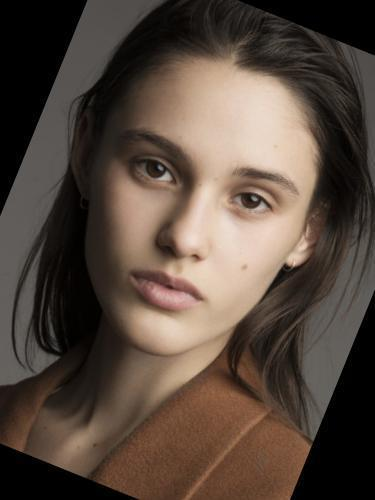Sober: (96, 67, 298, 341)
